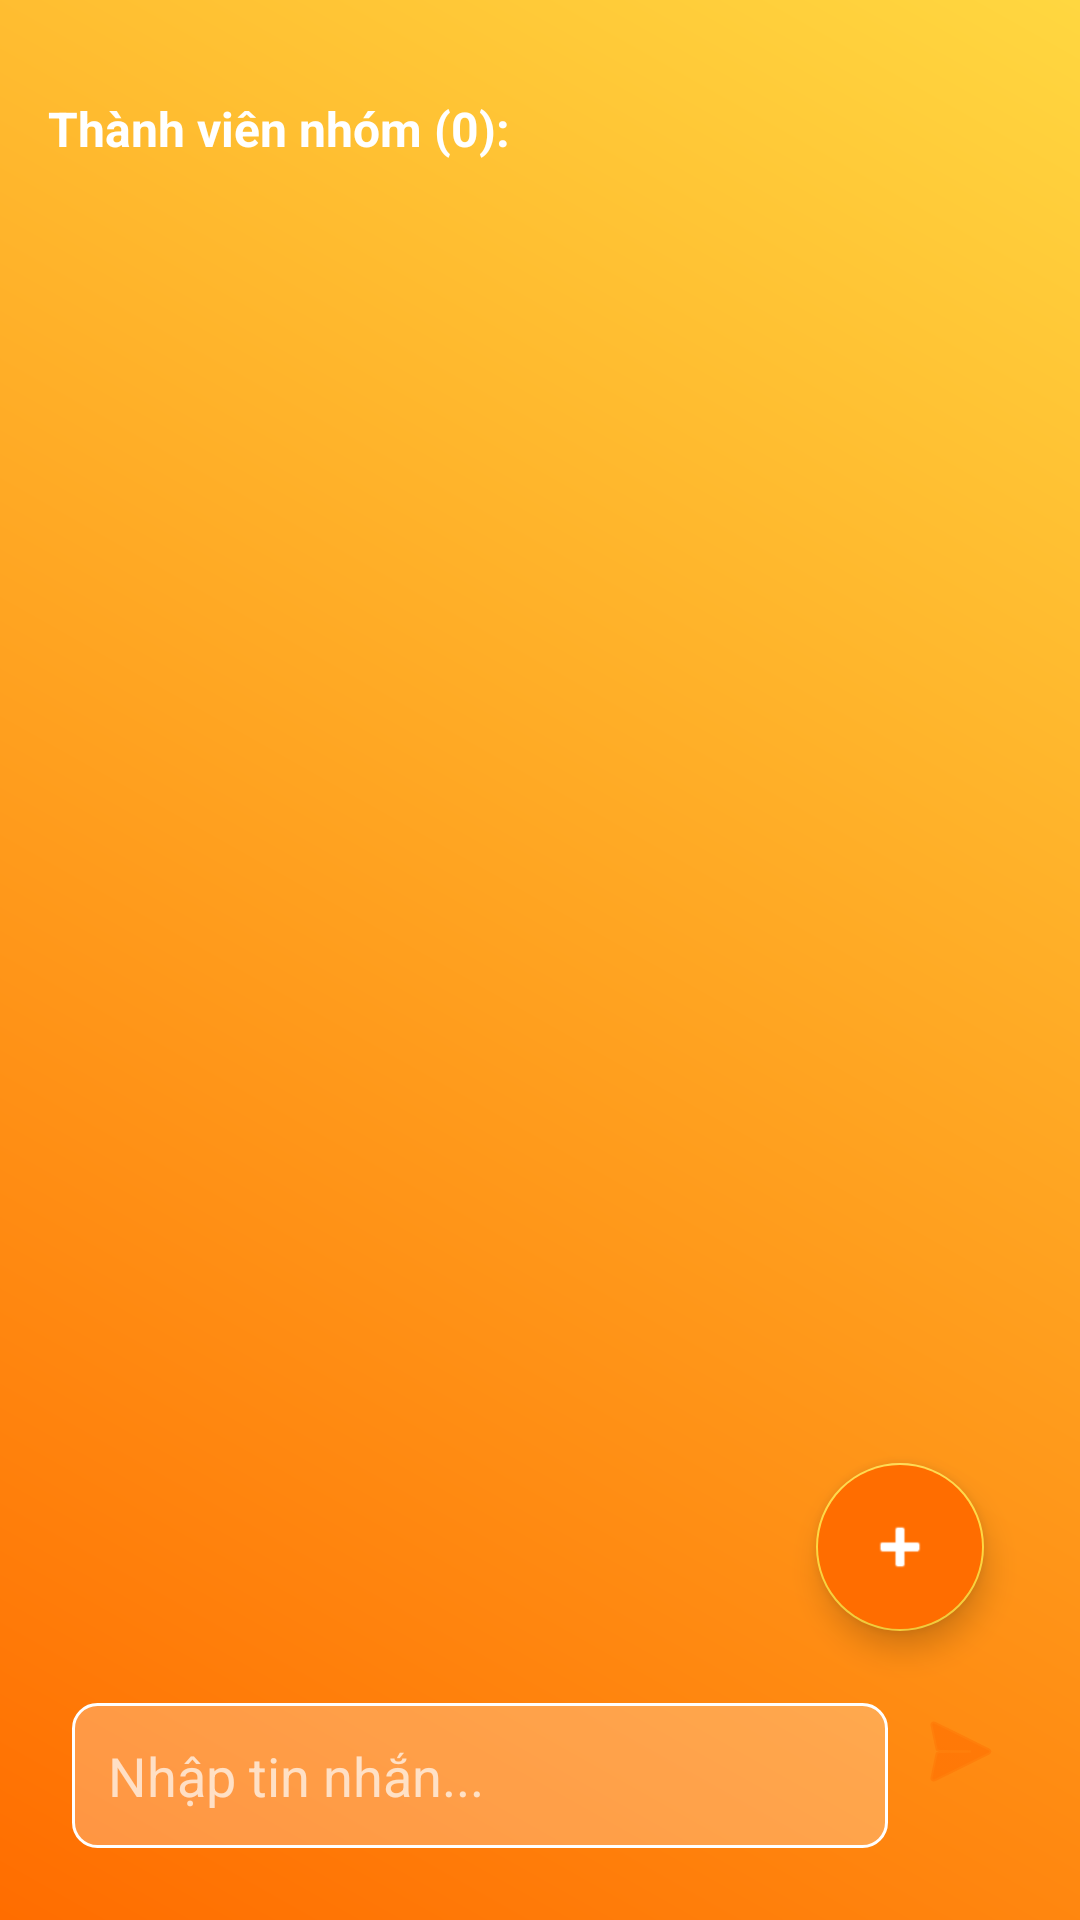

Icon click points for this 1080px x 1920px phone screenshot, format [x,y]:
Thêm thành viên: [900,1547]
